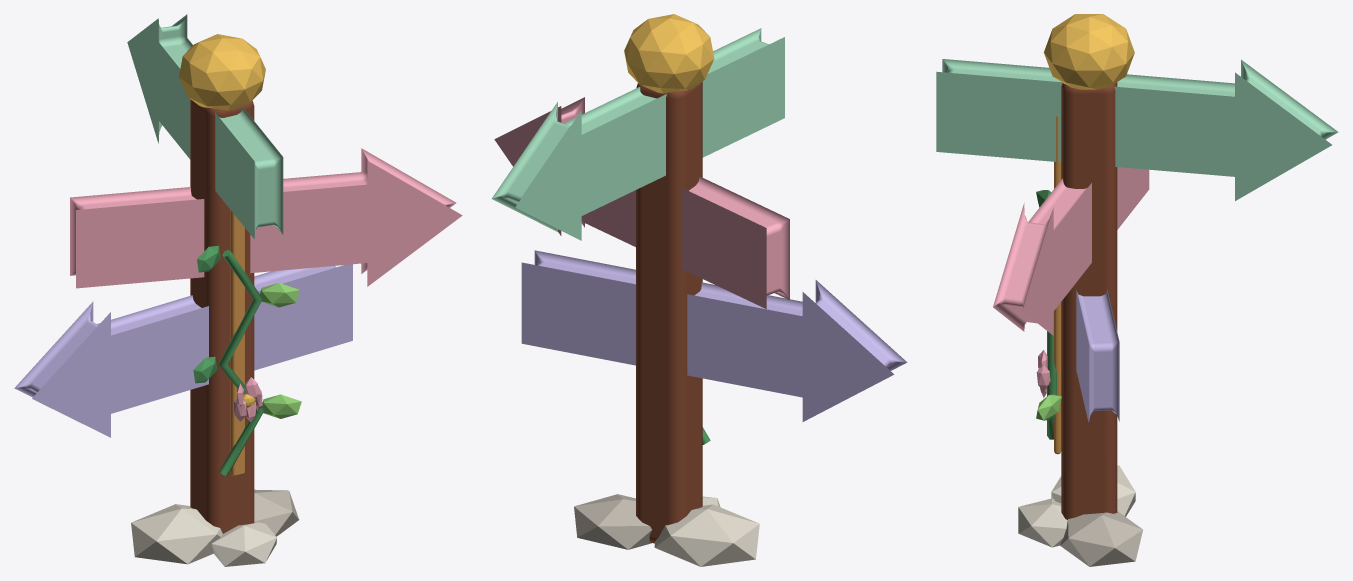
The model's file is thornvale-wayfinder.glb.
The picture shows the model from 3 angles, left to right: view 1: azimuth 30°, elevation 25°; view 2: azimuth 150°, elevation 25°; view 3: azimuth 270°, elevation 25°; orthographic projection. The views are drawn at different scales.
Parts seen in each view (by area): view 1: VillageWayfinder_Blush, VillageWayfinder_Lavender, VillageWayfinder_Wood_Cocoa, VillageWayfinder_Mint, VillageWayfinder_Stone_Light, VillageWayfinder_Antique_Gold, VillageWayfinder_Leaf_Dark, VillageWayfinder_Wood_Honey, VillageWayfinder_Stone_Warm, VillageWayfinder_Leaf_Light; view 2: VillageWayfinder_Lavender, VillageWayfinder_Wood_Cocoa, VillageWayfinder_Mint, VillageWayfinder_Blush, VillageWayfinder_Antique_Gold, VillageWayfinder_Stone_Light, VillageWayfinder_Stone_Warm; view 3: VillageWayfinder_Mint, VillageWayfinder_Wood_Cocoa, VillageWayfinder_Blush, VillageWayfinder_Antique_Gold, VillageWayfinder_Lavender, VillageWayfinder_Stone_Warm, VillageWayfinder_Stone_Light, VillageWayfinder_Wood_Honey, VillageWayfinder_Leaf_Dark.
Boxes of the visible parts, x1=… form: VillageWayfinder_Blush: x1=70, y1=148, x2=462, y2=422; VillageWayfinder_Lavender: x1=14, y1=264, x2=352, y2=437; VillageWayfinder_Wood_Cocoa: x1=190, y1=99, x2=254, y2=533; VillageWayfinder_Mint: x1=127, y1=14, x2=283, y2=239; VillageWayfinder_Stone_Light: x1=131, y1=504, x2=276, y2=566; VillageWayfinder_Antique_Gold: x1=179, y1=34, x2=265, y2=407; VillageWayfinder_Leaf_Dark: x1=193, y1=245, x2=264, y2=476; VillageWayfinder_Wood_Honey: x1=230, y1=210, x2=244, y2=476; VillageWayfinder_Stone_Warm: x1=254, y1=489, x2=299, y2=536; VillageWayfinder_Leaf_Light: x1=260, y1=283, x2=301, y2=418; VillageWayfinder_Lavender: x1=521, y1=250, x2=907, y2=421; VillageWayfinder_Wood_Cocoa: x1=636, y1=81, x2=702, y2=543; VillageWayfinder_Mint: x1=491, y1=28, x2=784, y2=240; VillageWayfinder_Blush: x1=494, y1=97, x2=789, y2=308; VillageWayfinder_Antique_Gold: x1=624, y1=14, x2=714, y2=93; VillageWayfinder_Stone_Light: x1=654, y1=496, x2=759, y2=566; VillageWayfinder_Stone_Warm: x1=574, y1=494, x2=651, y2=549; VillageWayfinder_Mint: x1=936, y1=59, x2=1338, y2=200; VillageWayfinder_Wood_Cocoa: x1=1061, y1=82, x2=1117, y2=519; VillageWayfinder_Blush: x1=993, y1=167, x2=1149, y2=397; VillageWayfinder_Antique_Gold: x1=1044, y1=14, x2=1134, y2=89; VillageWayfinder_Lavender: x1=1076, y1=290, x2=1119, y2=422; VillageWayfinder_Stone_Warm: x1=1060, y1=511, x2=1142, y2=566; VillageWayfinder_Stone_Light: x1=1018, y1=465, x2=1135, y2=547; VillageWayfinder_Wood_Honey: x1=1054, y1=116, x2=1061, y2=454; VillageWayfinder_Leaf_Dark: x1=1036, y1=190, x2=1056, y2=439.
Bounding box in the file's own units: 2.36 × 2.8 × 1.94.
